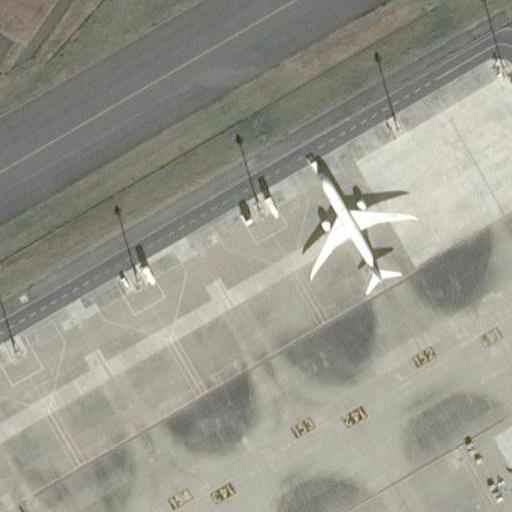Aircraft: (299, 157, 418, 301), (499, 402, 512, 512)
